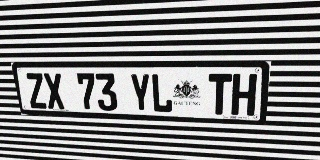3: (95, 73, 118, 111)
7: (75, 73, 98, 110)
H: (231, 74, 257, 116)
L: (151, 73, 173, 113)
T: (208, 74, 232, 115)
X: (43, 73, 66, 109)
Y: (129, 73, 152, 112)
Z: (25, 73, 48, 109)
